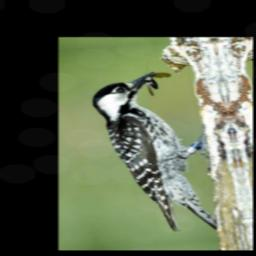Woodpecker: (87, 69, 219, 241)
